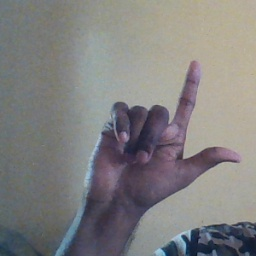L: (80, 60, 242, 205)
